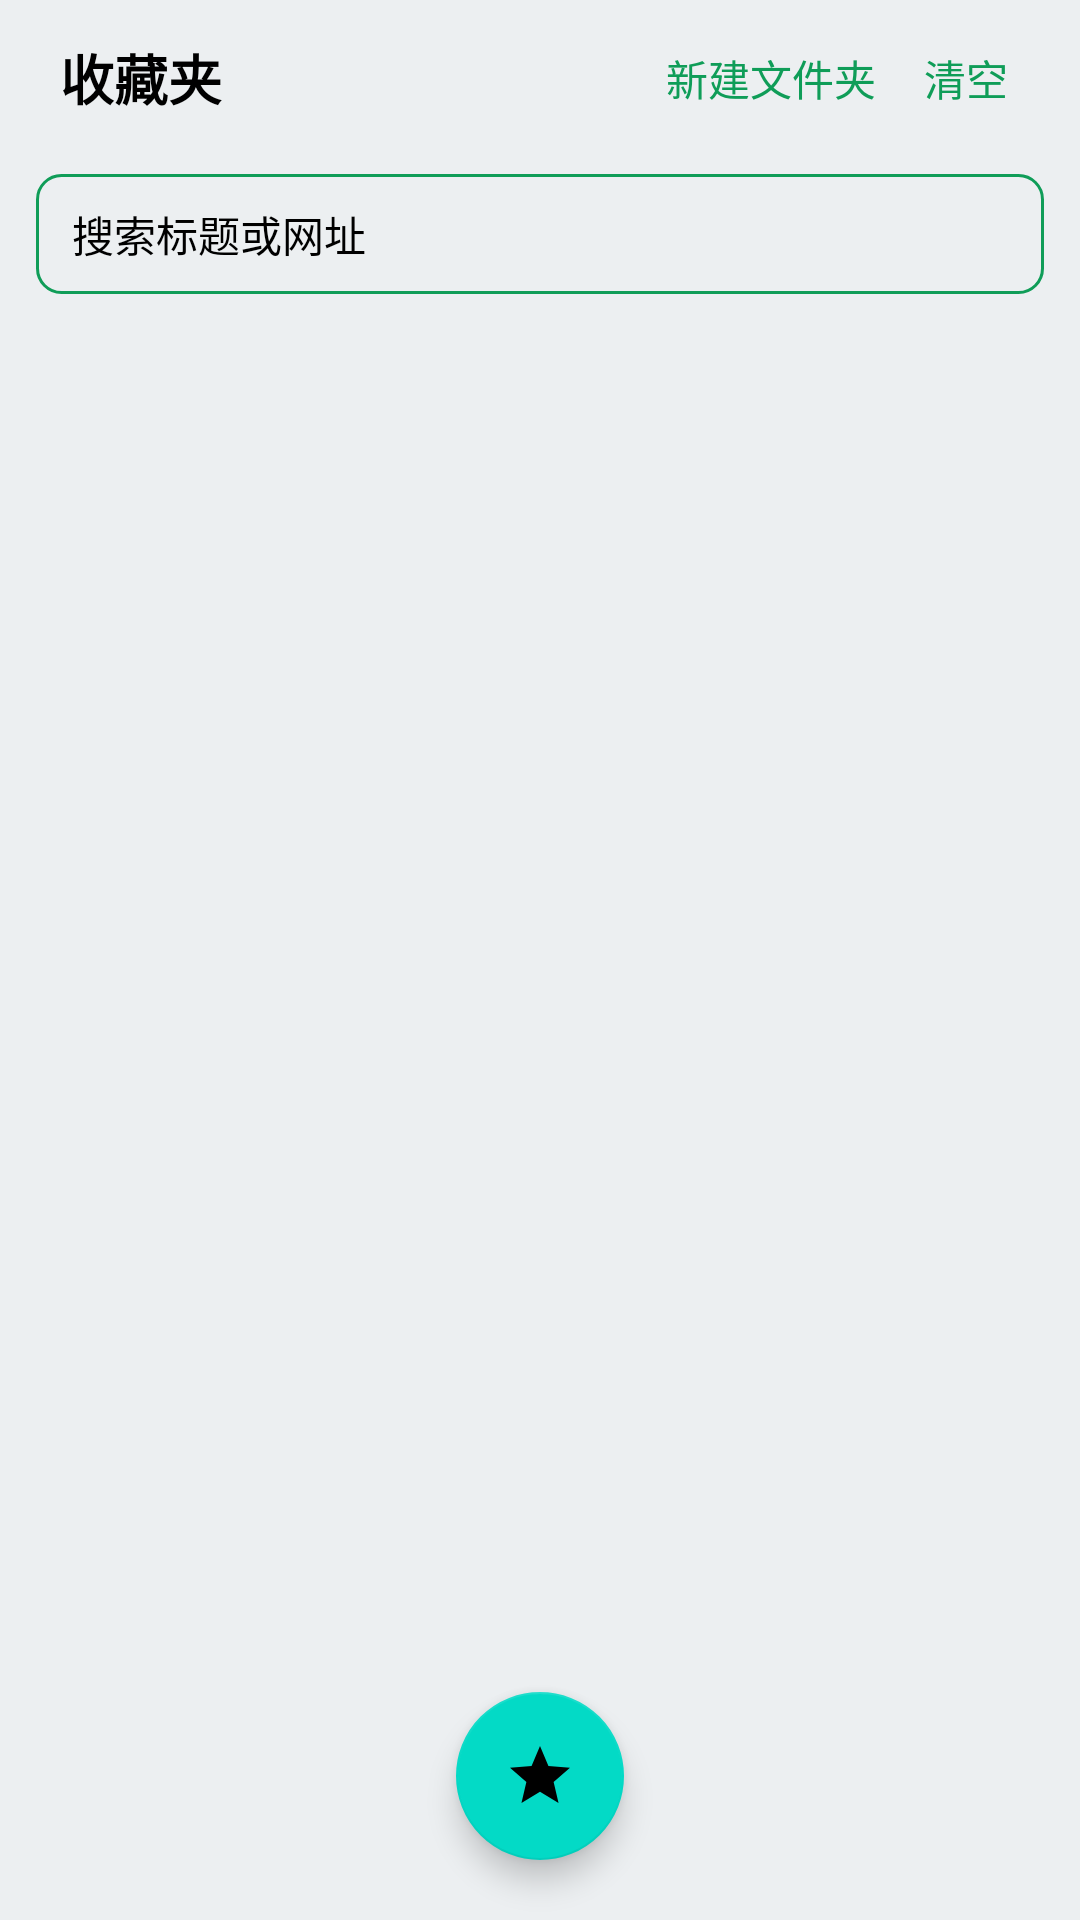

Icons on this 1080×1920 Android screen, each with its box as {"x1": x1, "y1": y1, "x2": x2, "y2": y2}:
收藏当前页: {"x1": 456, "y1": 1692, "x2": 624, "y2": 1860}
